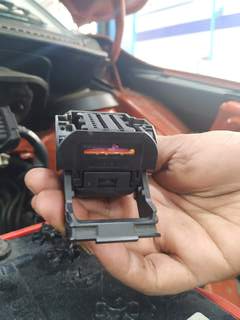connector: (54, 110, 158, 208)
